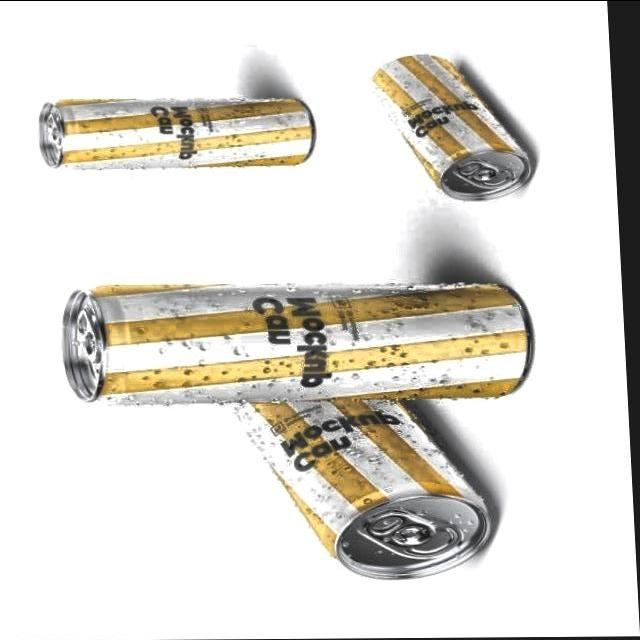litter: (51, 264, 545, 414), (227, 388, 504, 589), (366, 38, 544, 218), (24, 89, 328, 178)
